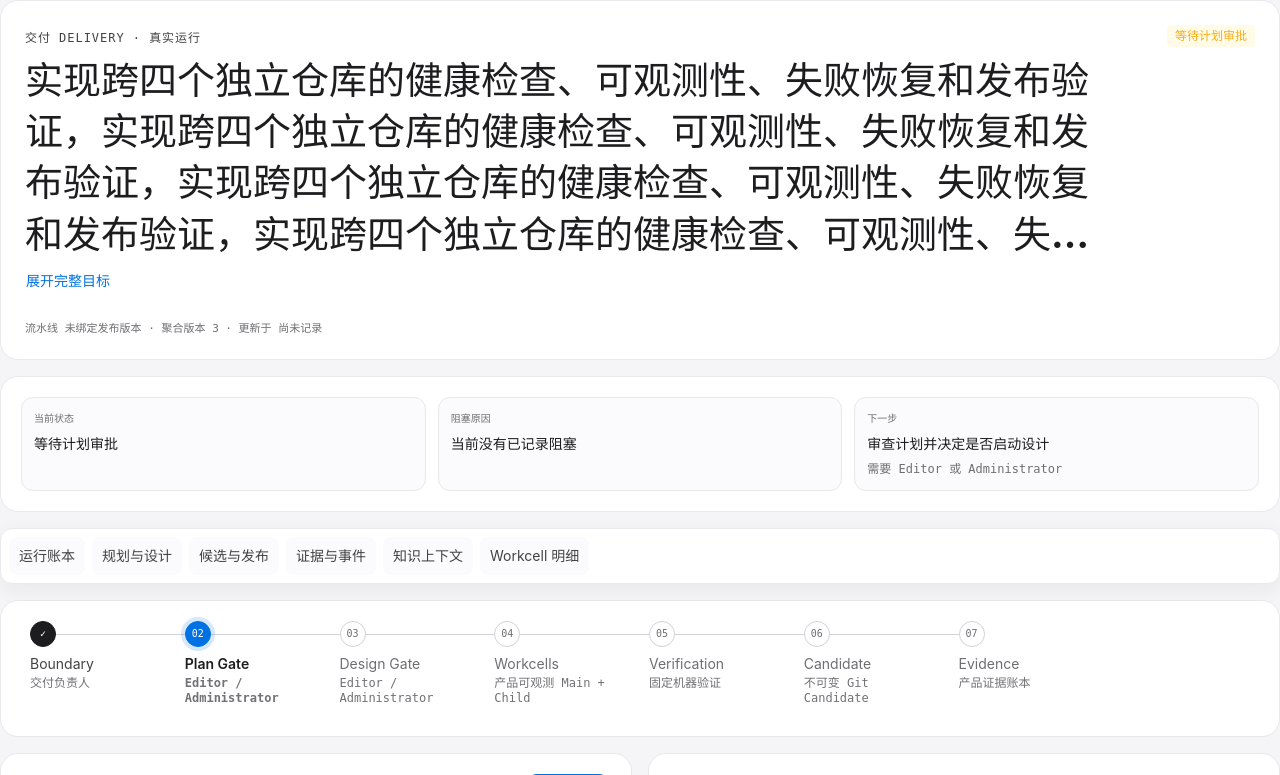
交付黄金纵切 › 长交付目标默认收起，并允许用户显式展开完整正文
Click the button "展开完整目标". click: (68, 281)
box: [25,262,111,300]
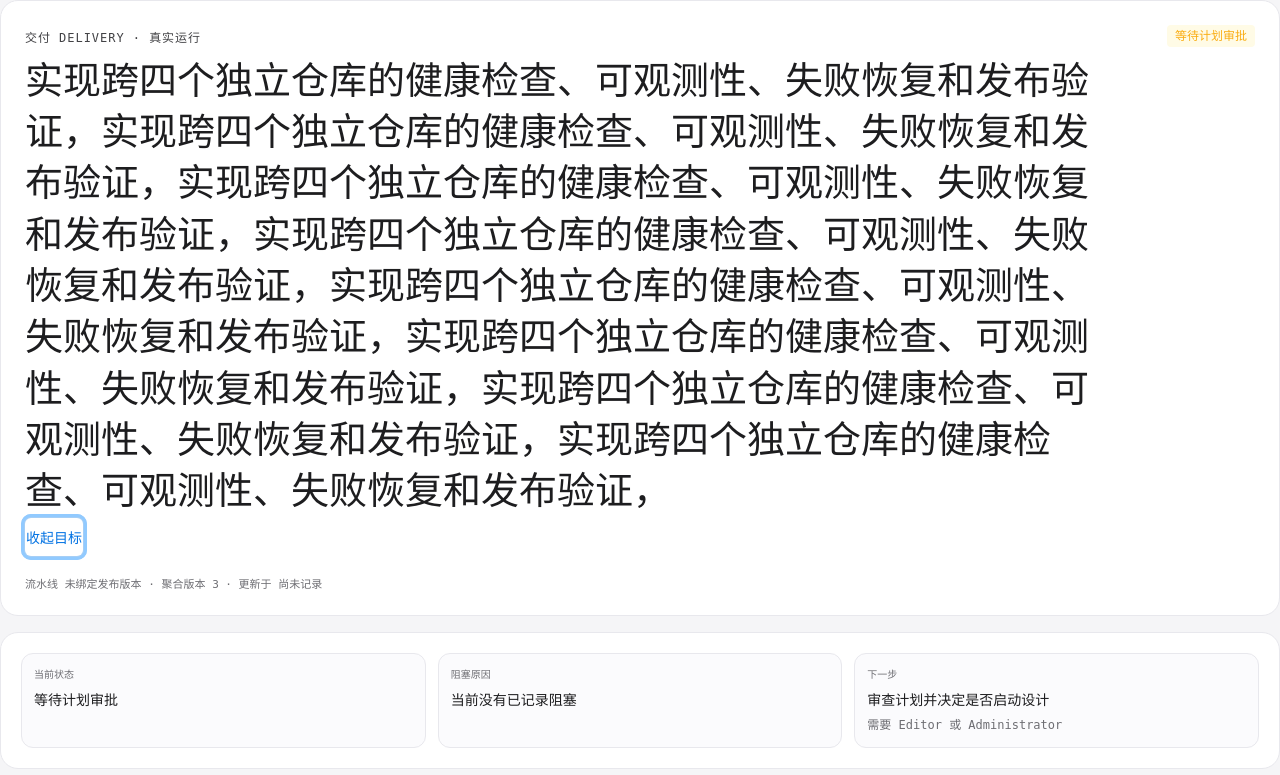
Expected: the button "收起目标" is shown, [25,518,83,556]
